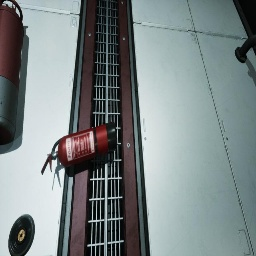FireExtinguisher ]: (41, 121, 117, 175)
NitrogenTank ,: (0, 0, 24, 145)
